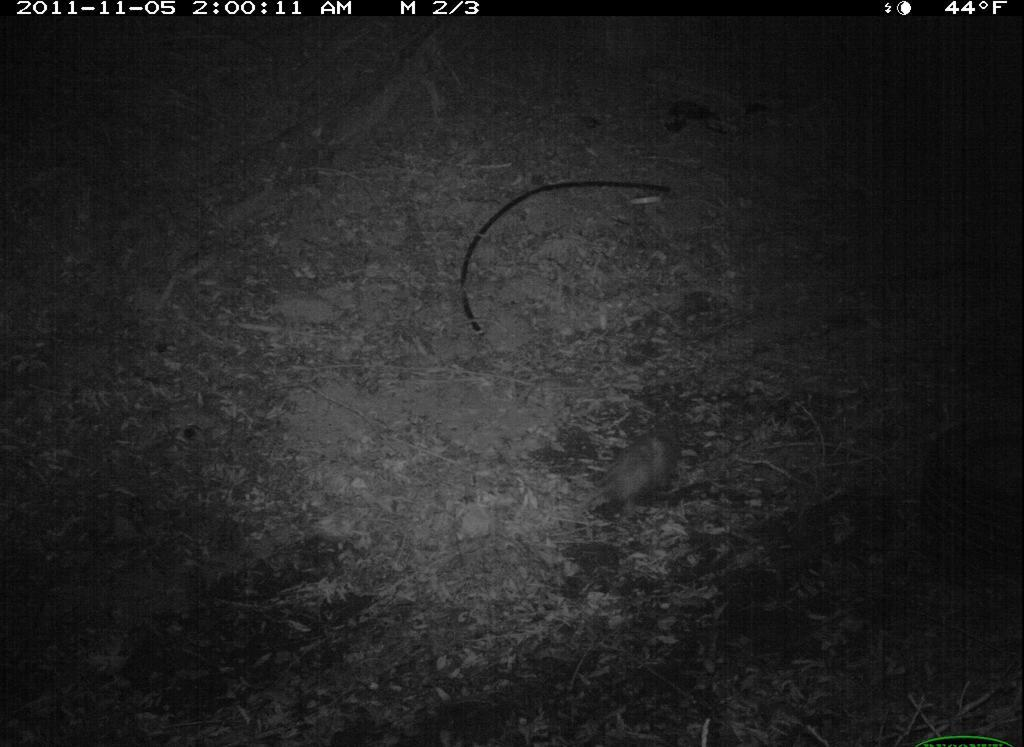opossum: (573, 417, 710, 536)
